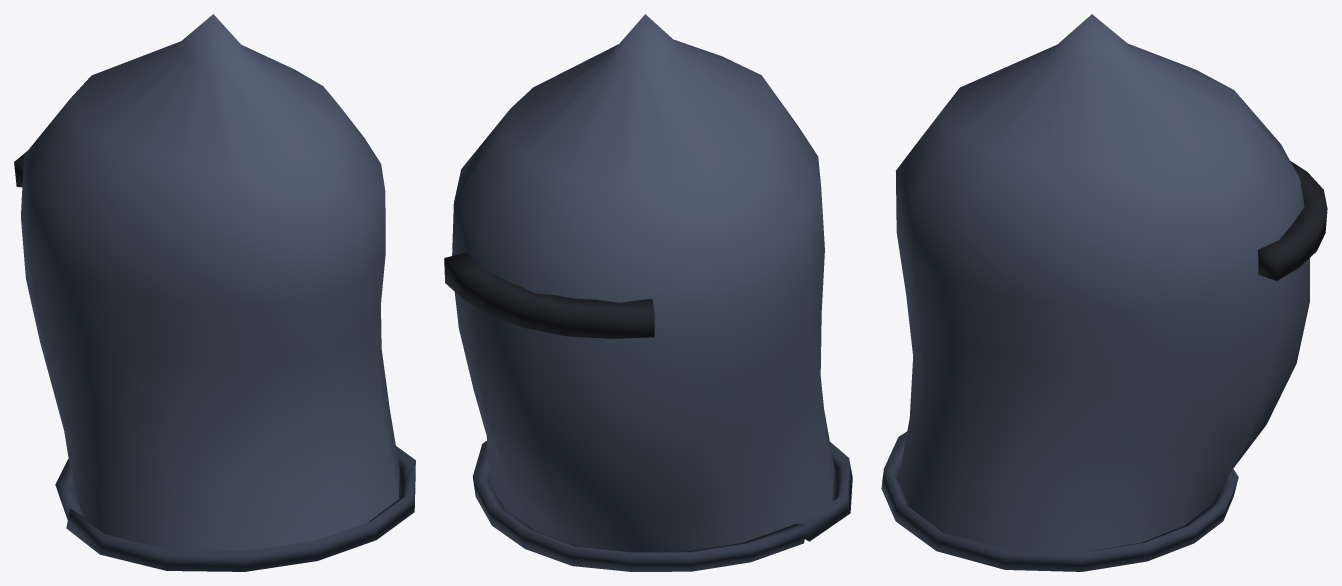
The model's file is lead_helmet.glb.
The picture shows the model from 3 angles, left to right: view 1: azimuth 30°, elevation 25°; view 2: azimuth 150°, elevation 25°; view 3: azimuth 270°, elevation 25°; orthographic projection. The views are drawn at different scales.
Visible parts, largest first — view 1: lead_helmet_head; view 2: lead_helmet_head; view 3: lead_helmet_head.
Boxes of the visible parts, left/top/right/bottom form: lead_helmet_head: left=14, top=14, right=415, bottom=571; lead_helmet_head: left=444, top=14, right=852, bottom=571; lead_helmet_head: left=881, top=14, right=1327, bottom=571.
Bounding box in the file's own units: 0.2317 × 0.3344 × 0.2801.
